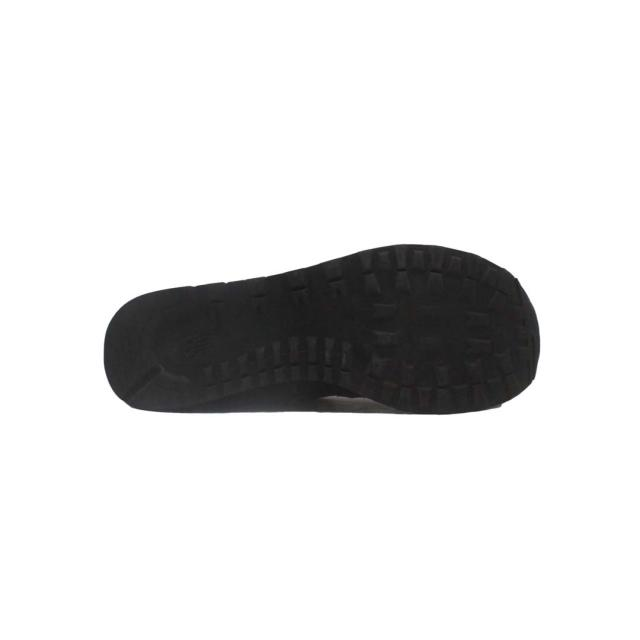outersole: (104, 243, 538, 414)
